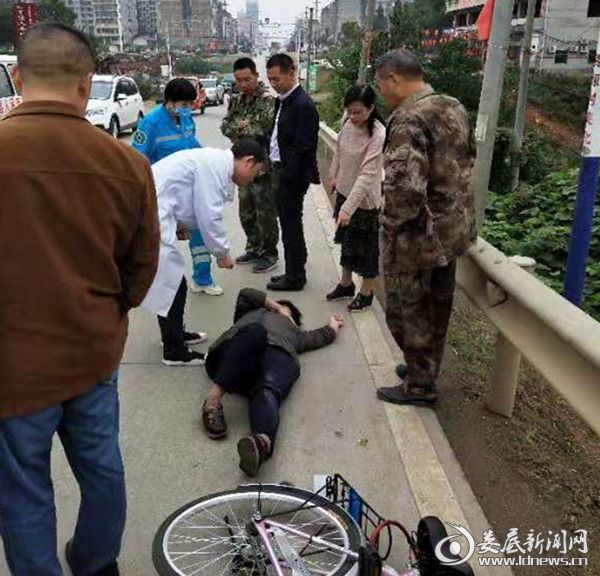fall: (192, 259, 352, 487)
